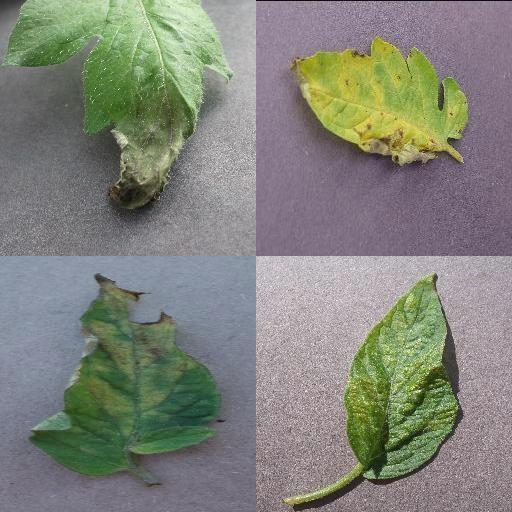Late Blight: (0, 0, 232, 217)
Leaf Mold: (26, 272, 224, 480)
Septoria: (291, 33, 469, 165)
Spider Mites: (345, 275, 459, 479)
